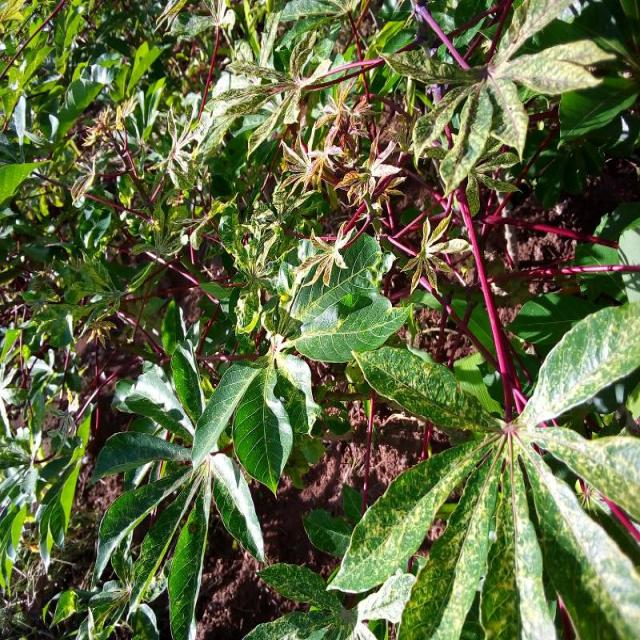cassava leaf: (324, 294, 638, 638), (519, 299, 639, 426)
